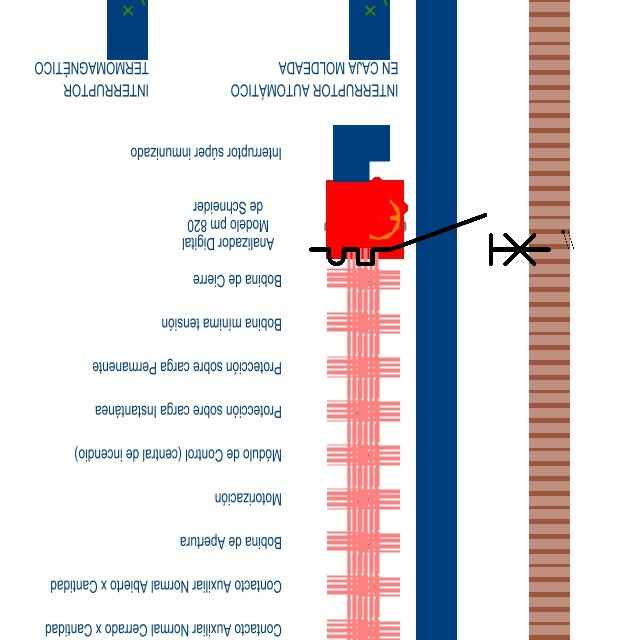interruptor_termomagnetico: (305, 209, 555, 270)
